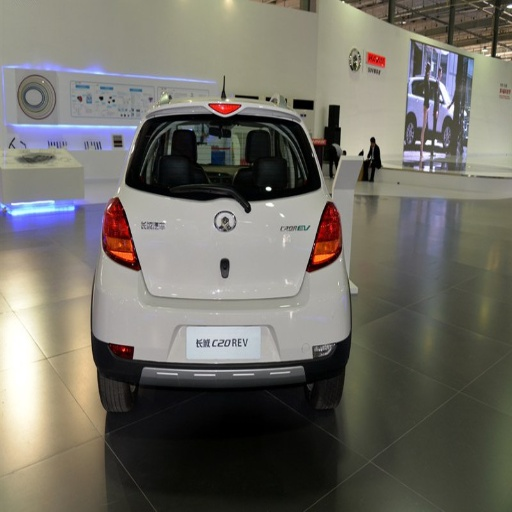back_bumper: (89, 254, 350, 386)
tailgate: (122, 197, 200, 298)
trunk: (125, 189, 325, 304)
